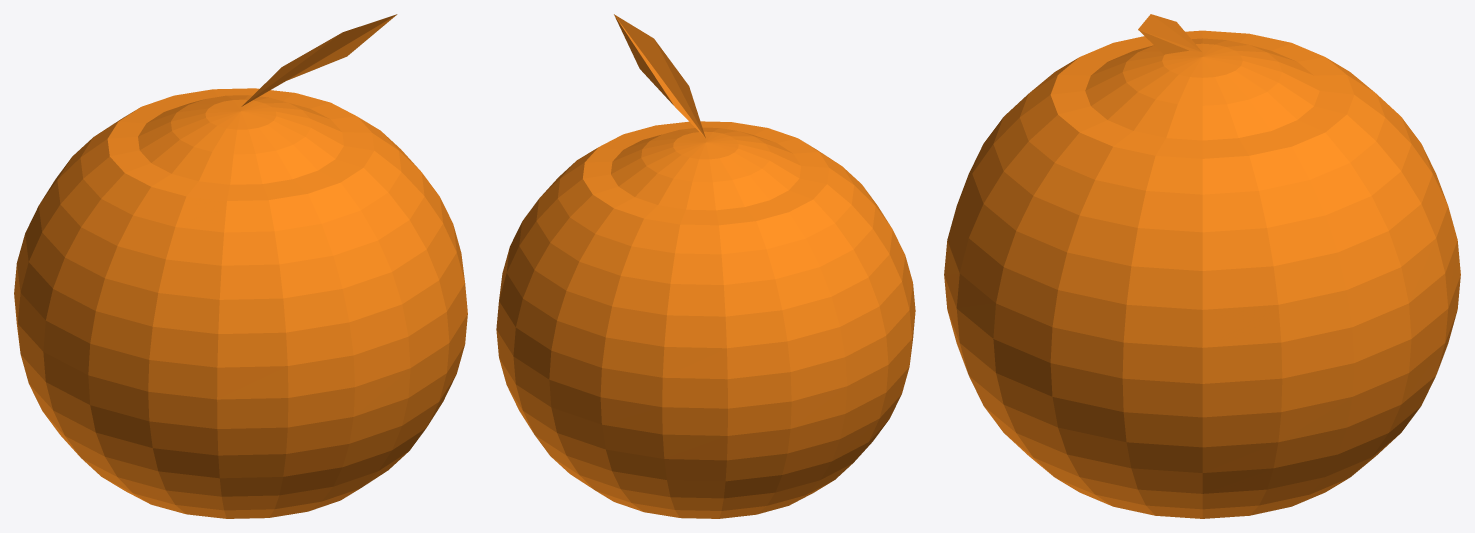
File: Orange.obj
3 views of the same model, side by side, from view 1: azimuth 30°, elevation 25°; view 2: azimuth 150°, elevation 25°; view 3: azimuth 270°, elevation 25° (orthographic). The views are drawn at different scales.
Visible parts, largest first — view 1: Orange; view 2: Orange; view 3: Orange.
Boxes of the visible parts, bbox=[...] form: Orange: bbox=[14, 14, 467, 518]; Orange: bbox=[496, 14, 915, 518]; Orange: bbox=[944, 14, 1460, 518].
Bounding box in the file's own units: 2 × 2.28 × 2.
